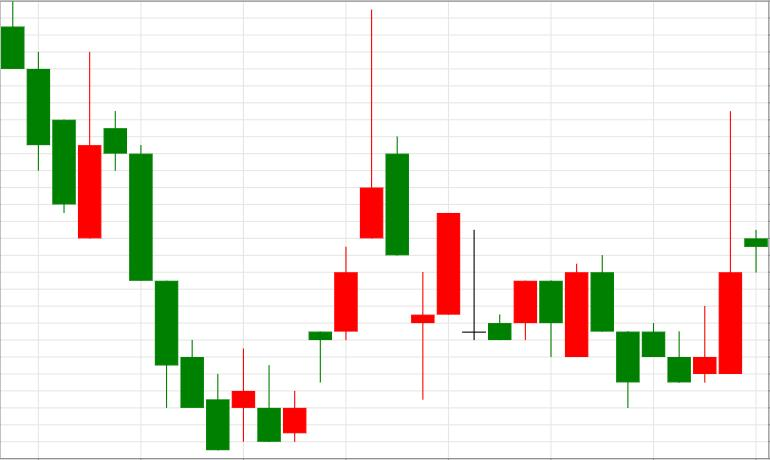shooting_star_fall: (282, 10, 383, 442)
